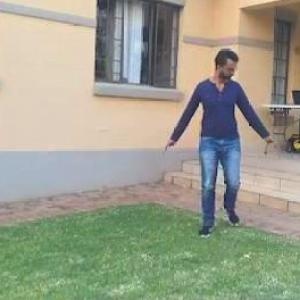land: (151, 33, 283, 249)
